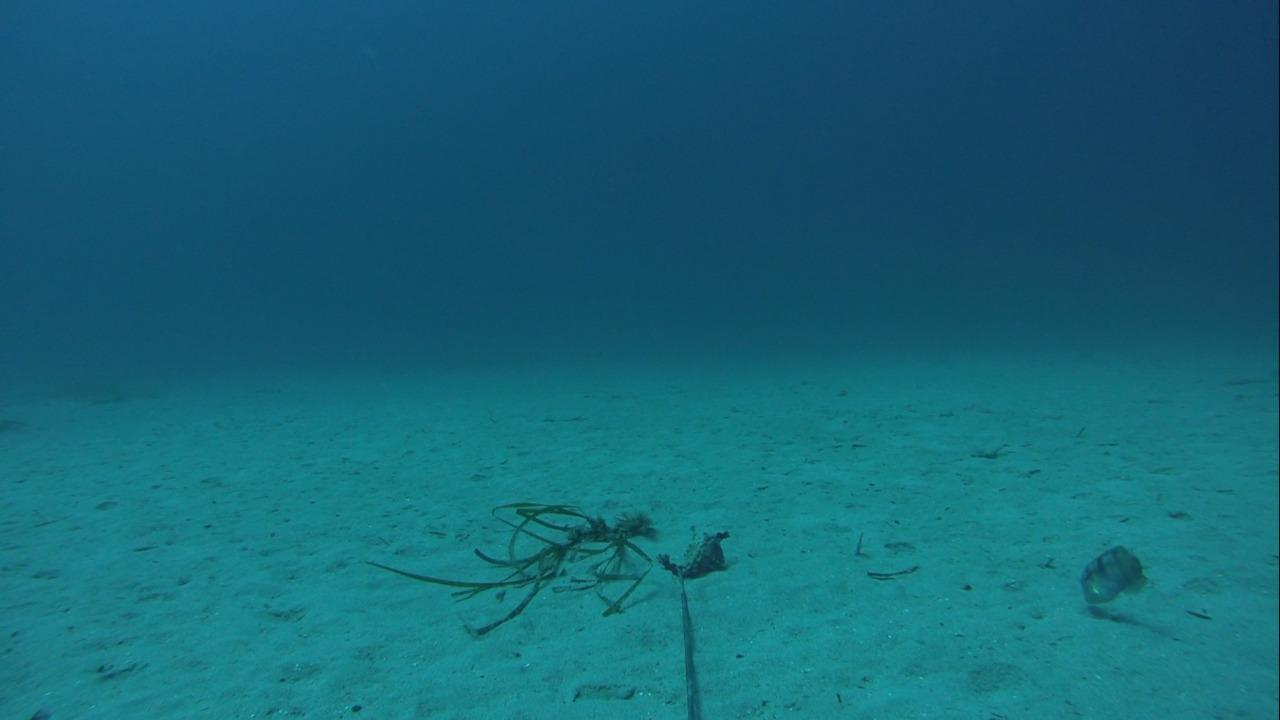raor: (1076, 541, 1150, 612)
